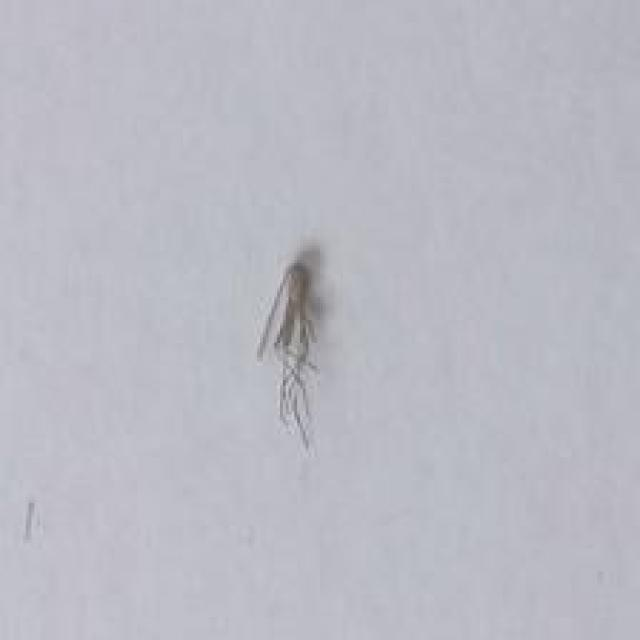Culex: (254, 254, 323, 452)
